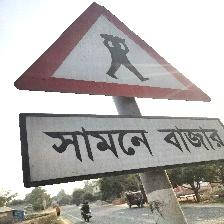Market-in-front: (14, 4, 224, 188)
